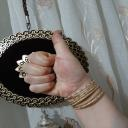ThumbsUp: (22, 25, 82, 107)
